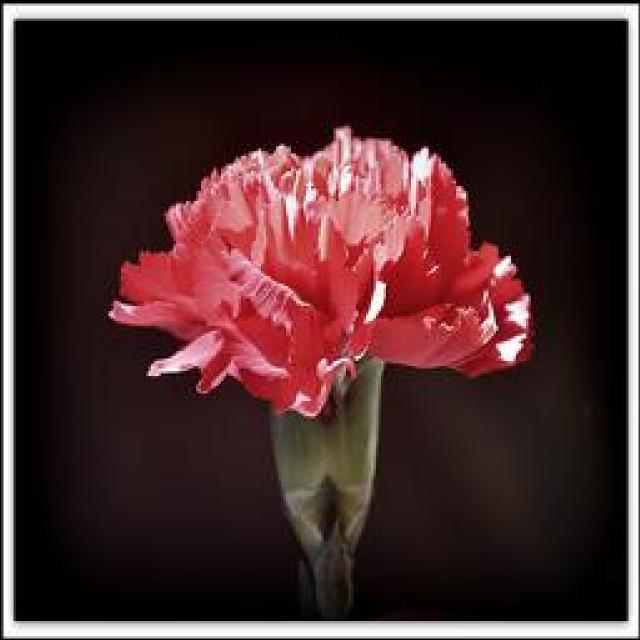carnation: (104, 112, 550, 462)
